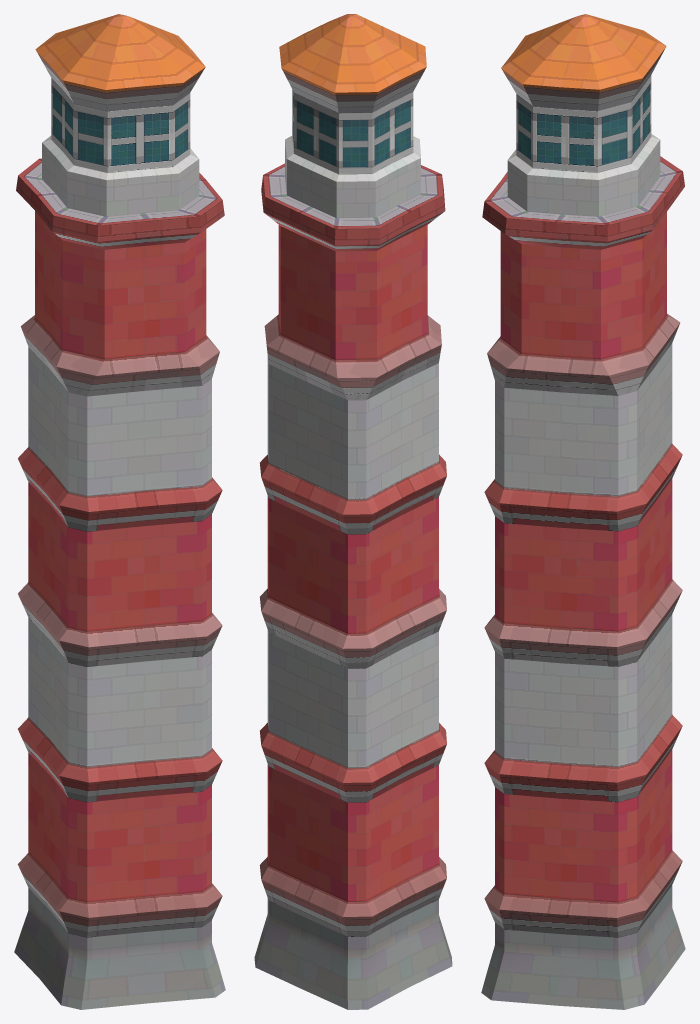
The model's file is normaltest.glb.
3 renders of one model, left to right at view 1: azimuth 30°, elevation 25°; view 2: azimuth 150°, elevation 25°; view 3: azimuth 270°, elevation 25°, orthographic.
Visible parts, largest first — view 1: House.008, House.010, House.009; view 2: House.008, House.010, House.009; view 3: House.008, House.010, House.009.
Part boxes in pixels (x1=…): House.008: x1=14, y1=582, x2=225, y2=1009; House.010: x1=16, y1=14, x2=224, y2=359; House.009: x1=18, y1=315, x2=222, y2=631; House.008: x1=254, y1=589, x2=452, y2=1009; House.010: x1=261, y1=14, x2=445, y2=360; House.009: x1=260, y1=314, x2=446, y2=633; House.008: x1=481, y1=579, x2=685, y2=1009; House.010: x1=482, y1=14, x2=684, y2=359; House.009: x1=484, y1=313, x2=682, y2=631.
Size of the model in its own units: 1.25 by 7.05 by 1.37.
3 materials, 3 textured.
